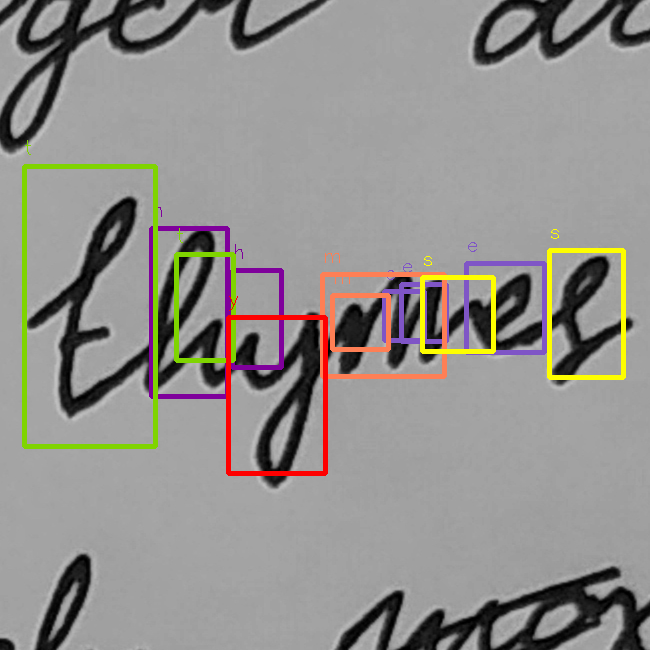e: (465, 266, 538, 359)
h: (142, 224, 227, 397)
m: (332, 267, 451, 379)
s: (541, 249, 613, 389)
t: (50, 189, 144, 421)
y: (230, 305, 330, 491)
